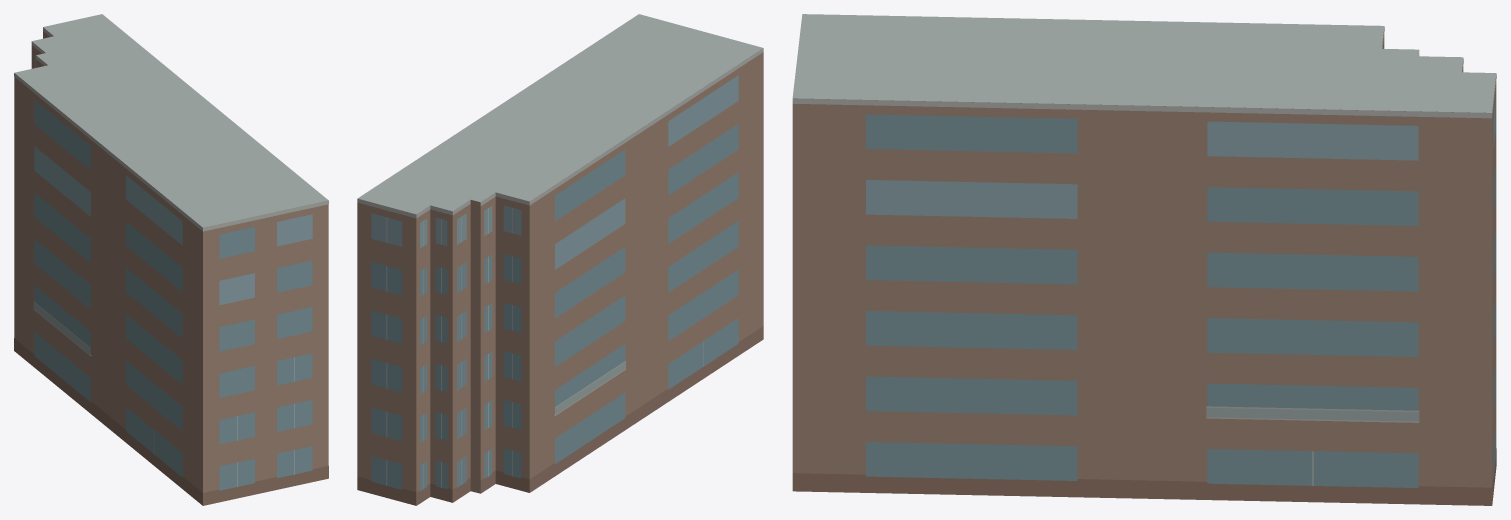
File: survey-upis-32573439.glb
3 views of the same model, side by side, from view 1: azimuth 30°, elevation 25°; view 2: azimuth 150°, elevation 25°; view 3: azimuth 270°, elevation 25° (orthographic). The views are drawn at different scales.
Visible parts, largest first — view 1: survey-upis-32573439.tmp; view 2: survey-upis-32573439.tmp; view 3: survey-upis-32573439.tmp.
Part boxes in pixels (bbox=[...]): survey-upis-32573439.tmp: bbox=[14, 14, 328, 505]; survey-upis-32573439.tmp: bbox=[357, 14, 763, 505]; survey-upis-32573439.tmp: bbox=[792, 14, 1496, 505].
Size of the model in its own units: 9.51 by 17.6 by 28.58.
